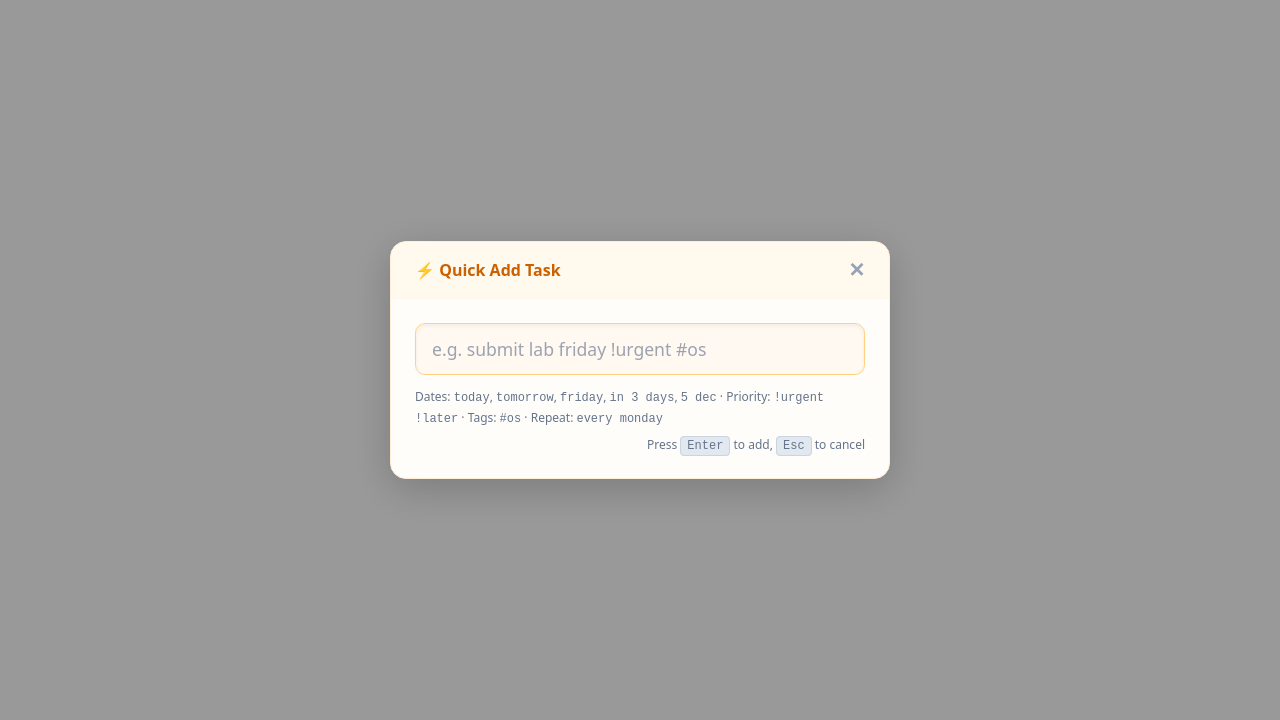
it: QuickAddModal › shows defaults for plain text
In the field named "Task": x=640, y=349 [415, 323, 865, 375], type "buy milk"
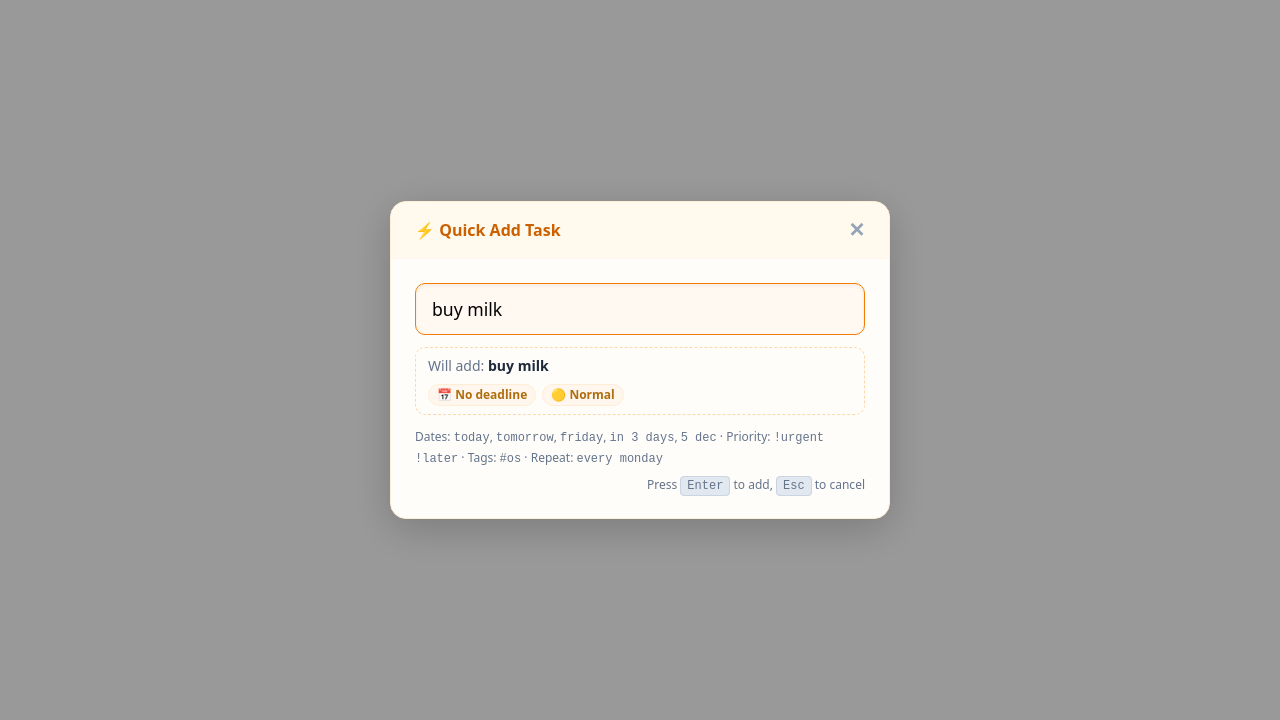
Expected: the text "📅 No deadline" is shown, [428, 384, 536, 406]
Expected: the text "🟡 Normal" is shown, [542, 384, 624, 406]
